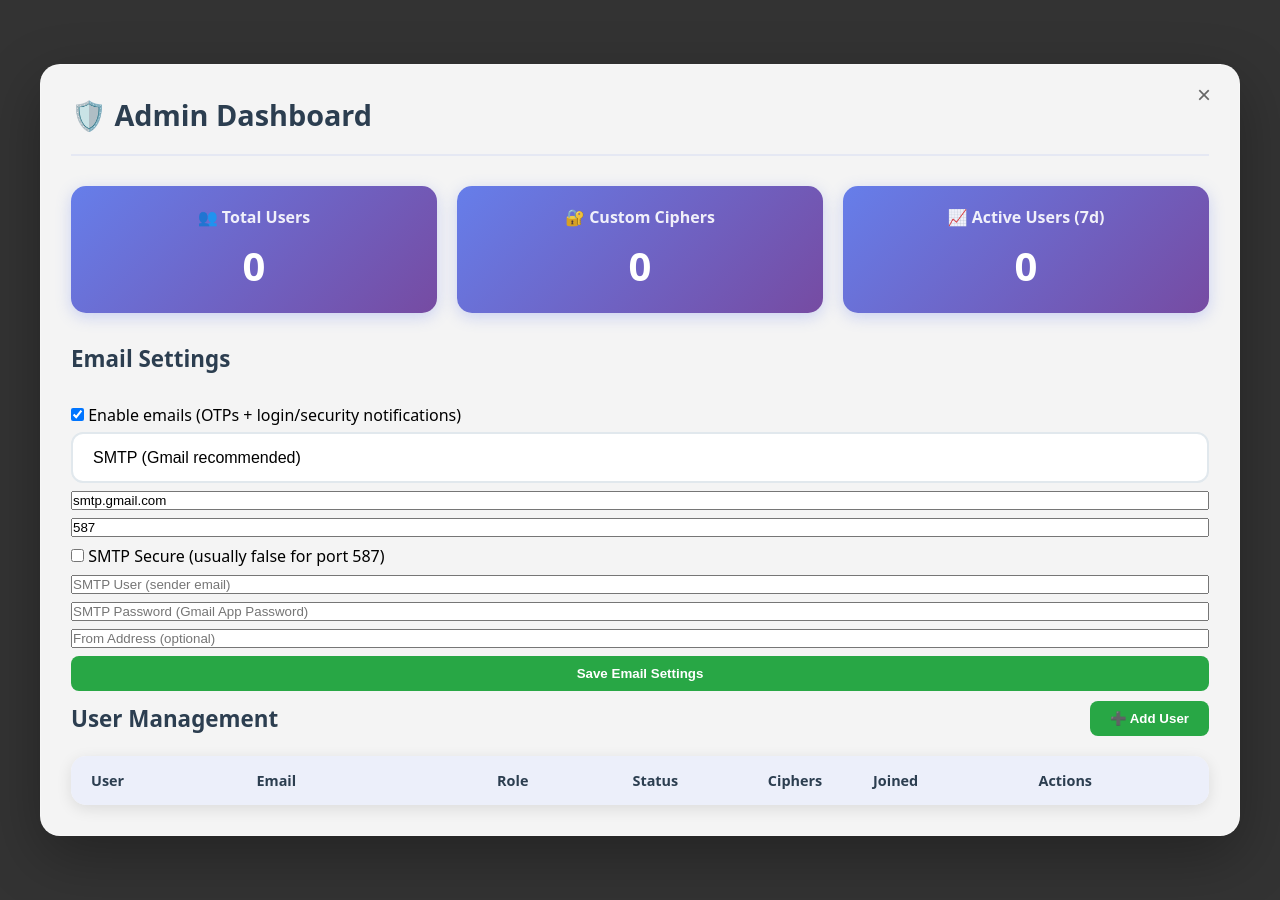
Test: AdminDashboard › opens add user modal
Click the button "➕ Add User": (1149, 718) [1090,701,1209,736]
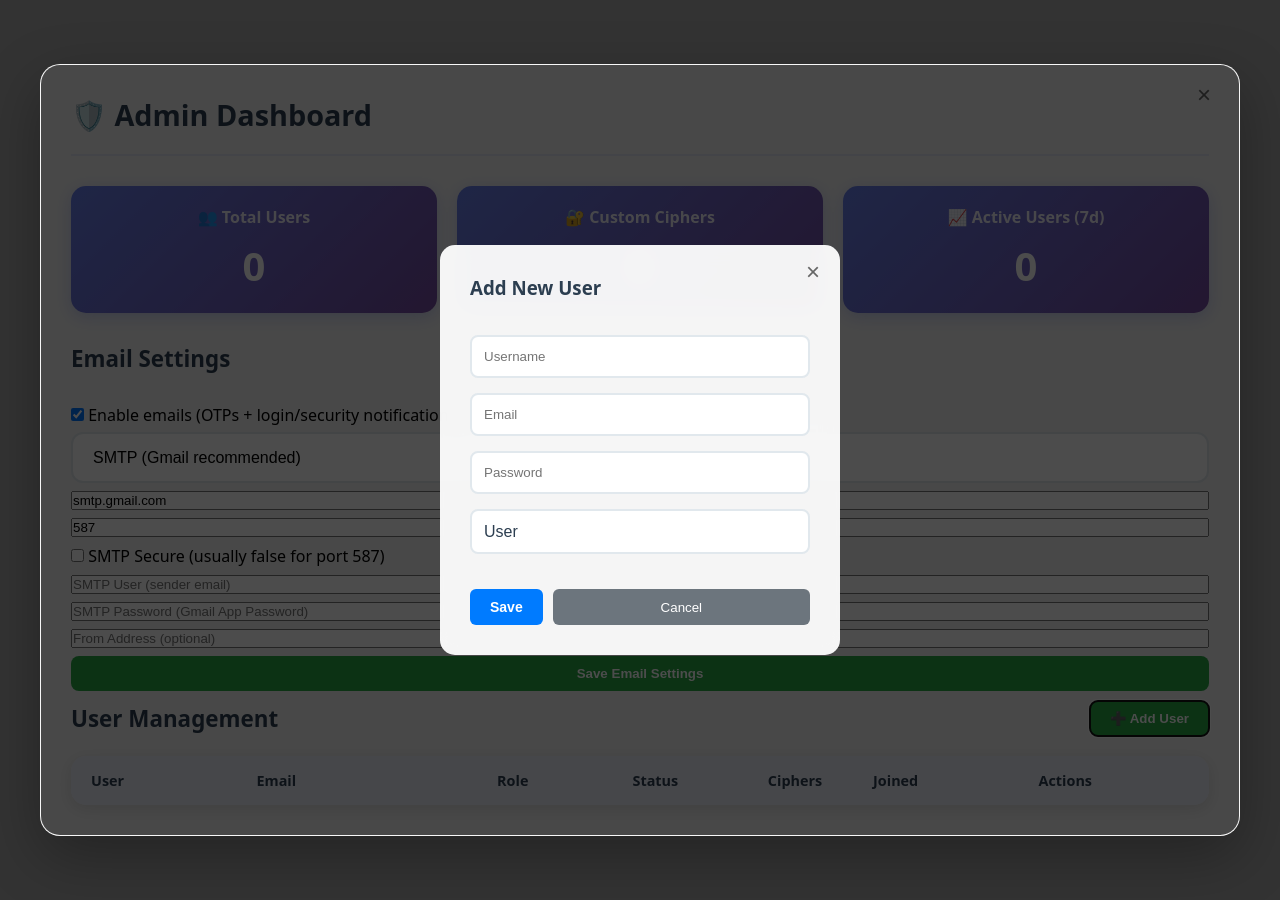
Check: the heading "Add New User" is shown, box [470,275,601,300]
